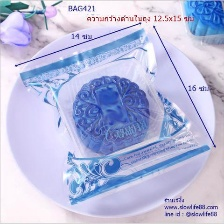snack: (12, 21, 214, 210)
